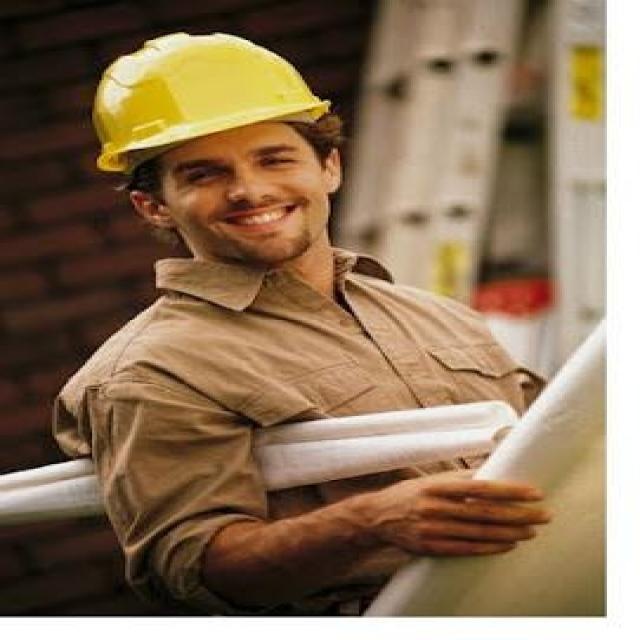Safety-Helmet: (83, 26, 344, 170)
